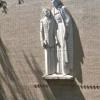Statue: (31, 6, 94, 86)
